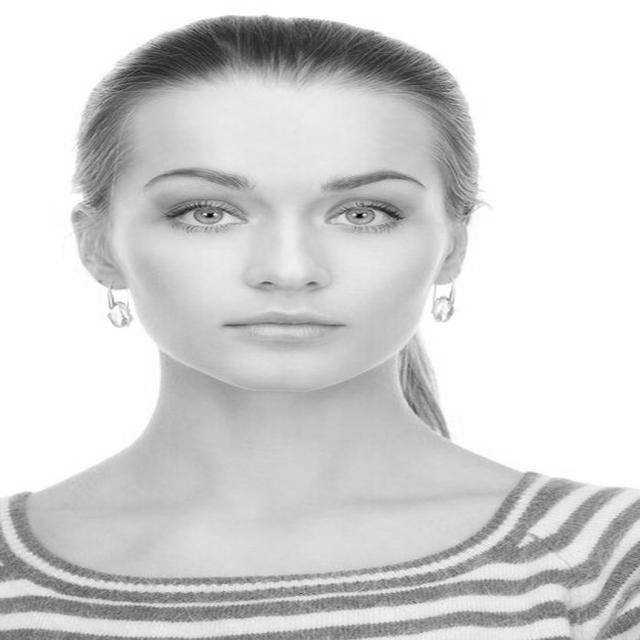Neutral: (111, 87, 445, 393)
